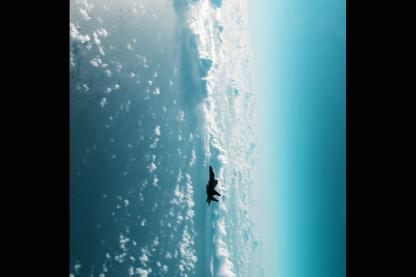F117: (206, 163, 221, 204)
